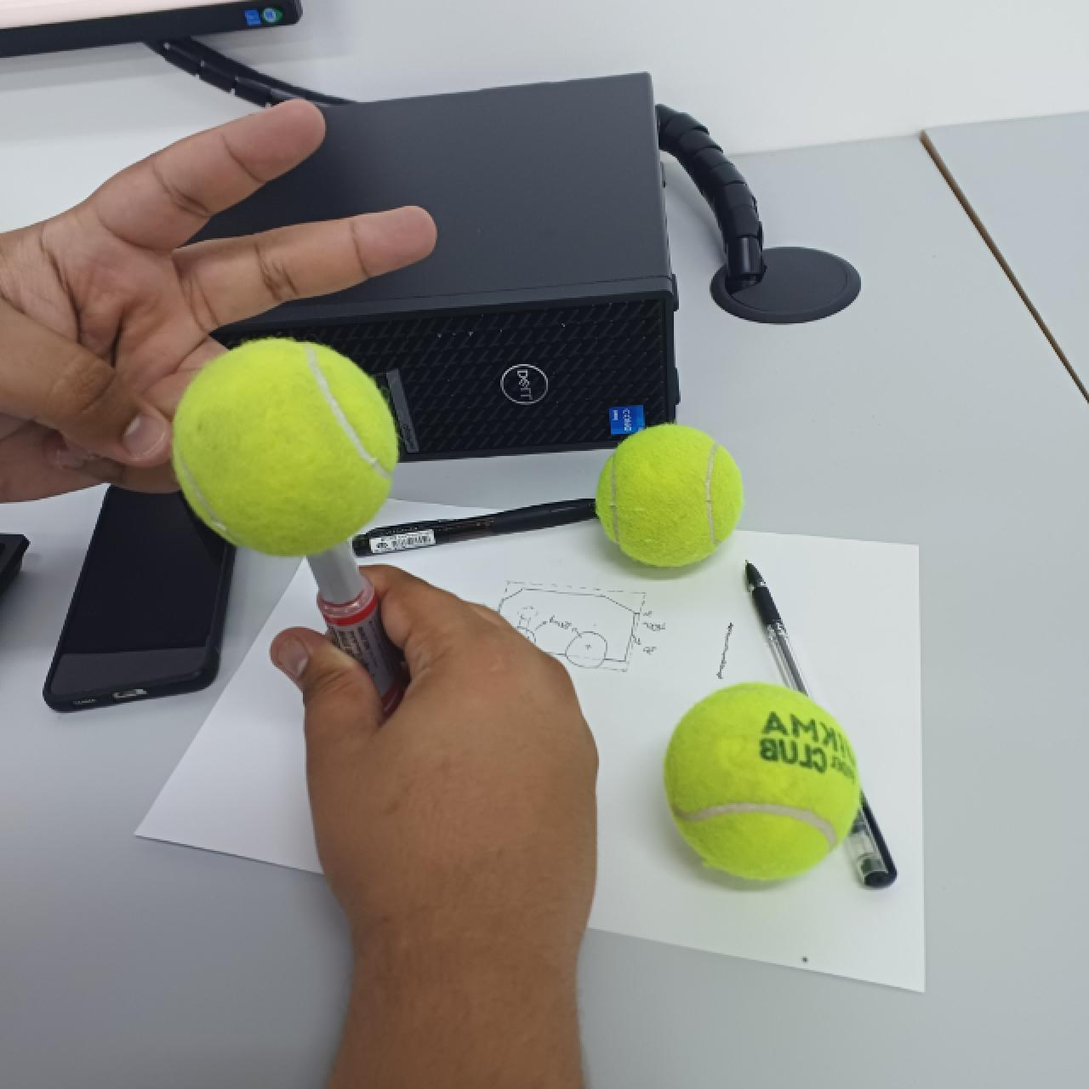tennis-ball: (169, 334, 401, 558), (664, 676, 866, 886), (595, 419, 745, 569)
